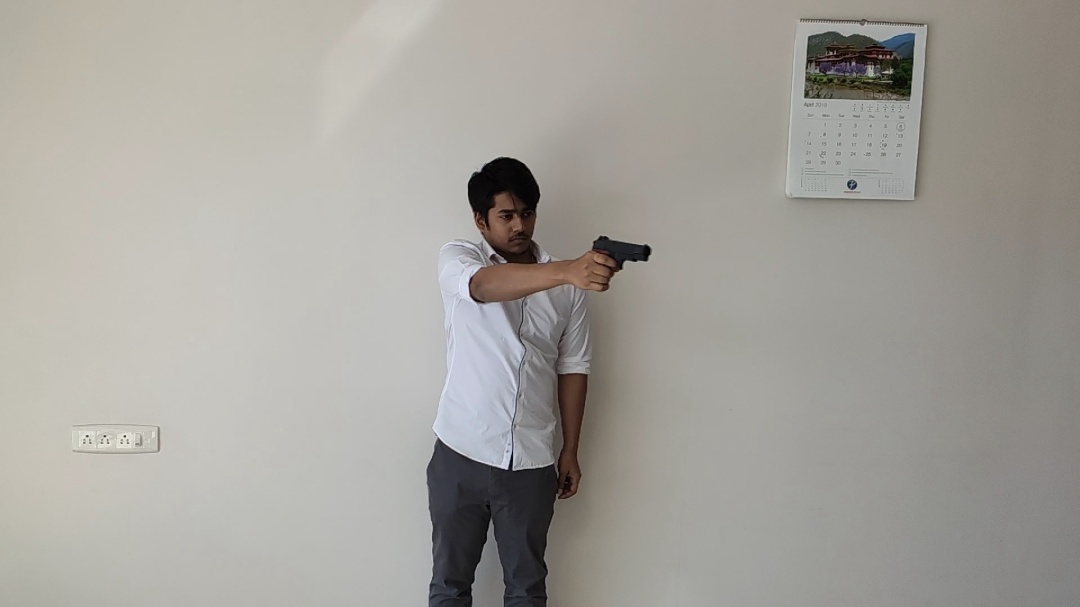gun: (591, 235, 652, 272)
